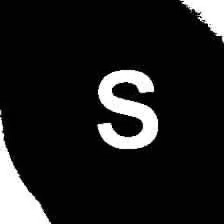LTR_S: (91, 64, 158, 153)
